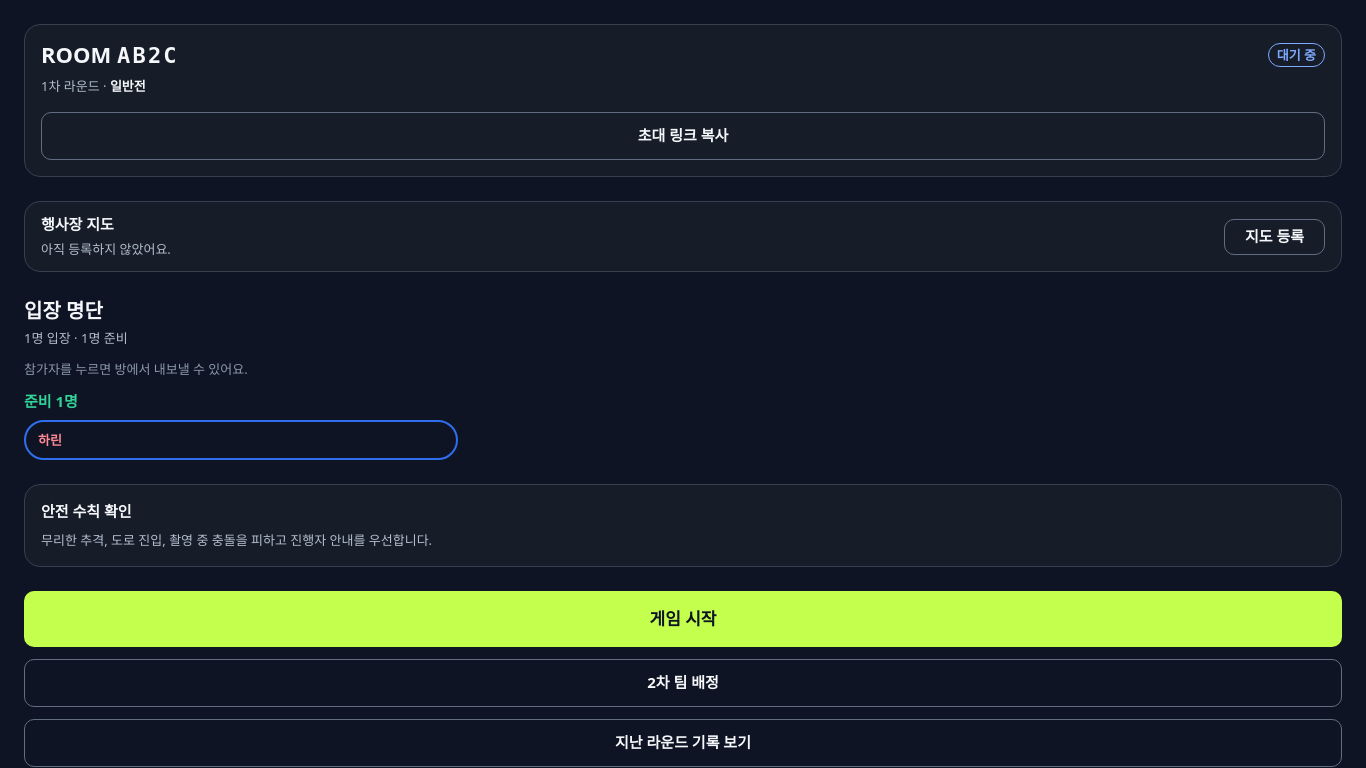
Test: WaitingRoomPage › 호스트: 이 차수를 이미 플레이한 마커가 있으면 게임 시작이 즉시 실행되지 않고 재실행 확인 다이얼로그가 뜬다
Click the button "게임 시작" at (683, 619), box [24,591,1342,647]
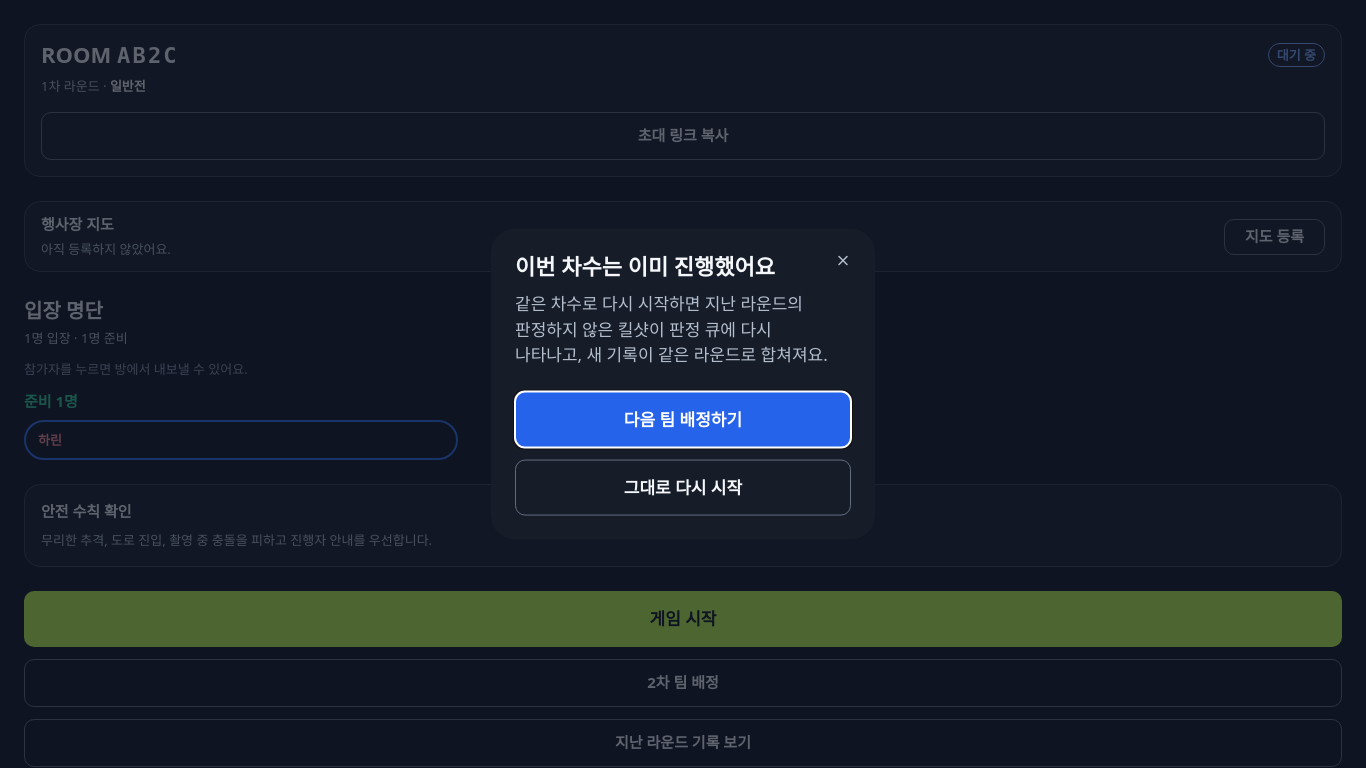
Check: the text "이번 차수는 이미 진행했어요" is shown, box [515,251,775,281]
